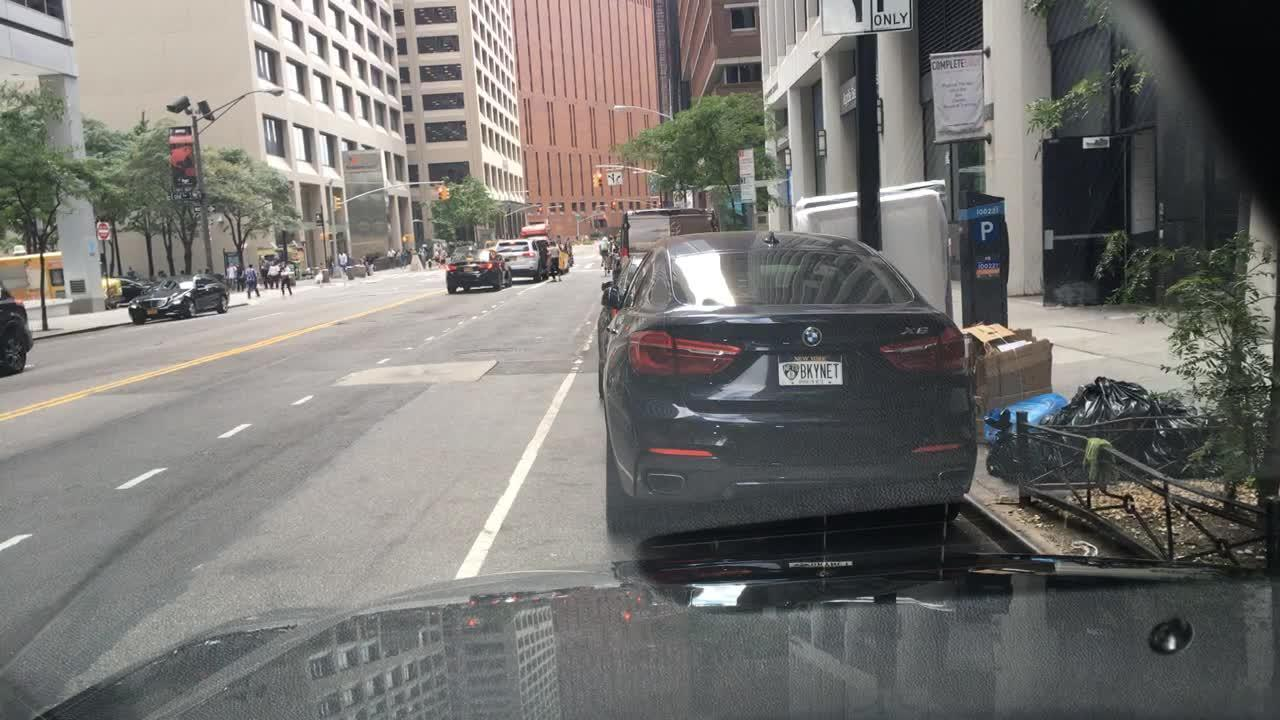bmw: (800, 327, 823, 349)
